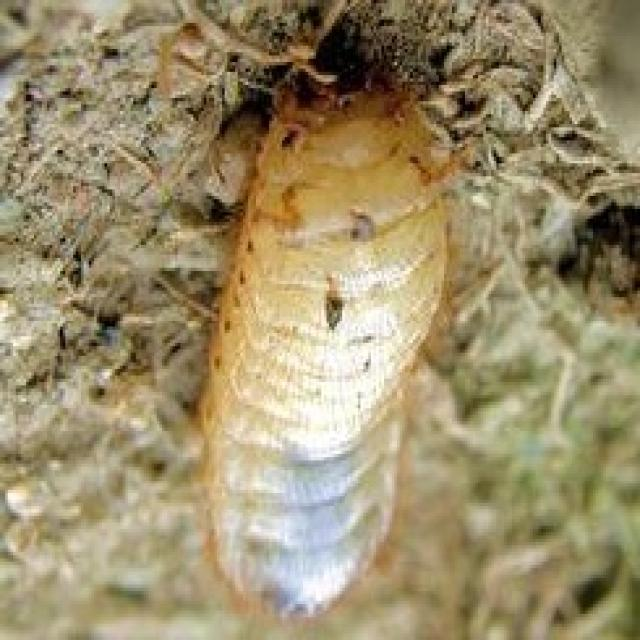grub: (163, 63, 445, 625)
